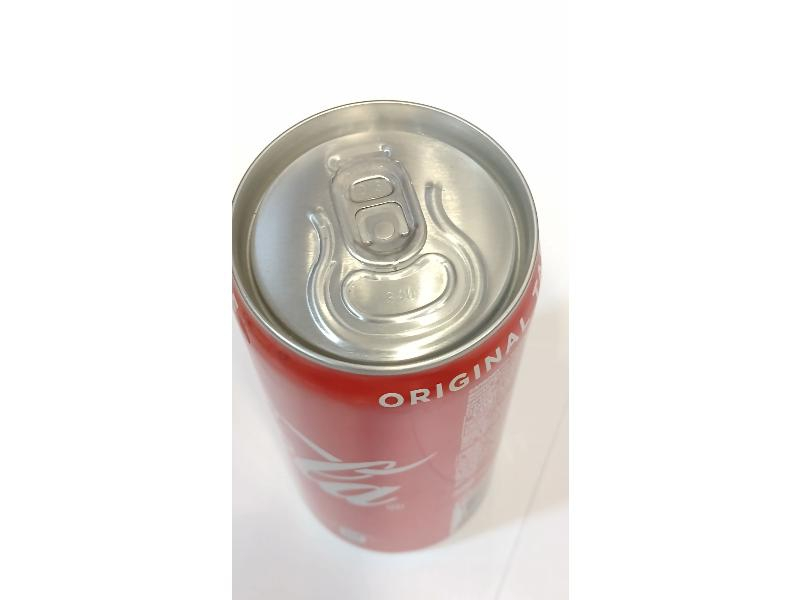can: (235, 98, 548, 563)
